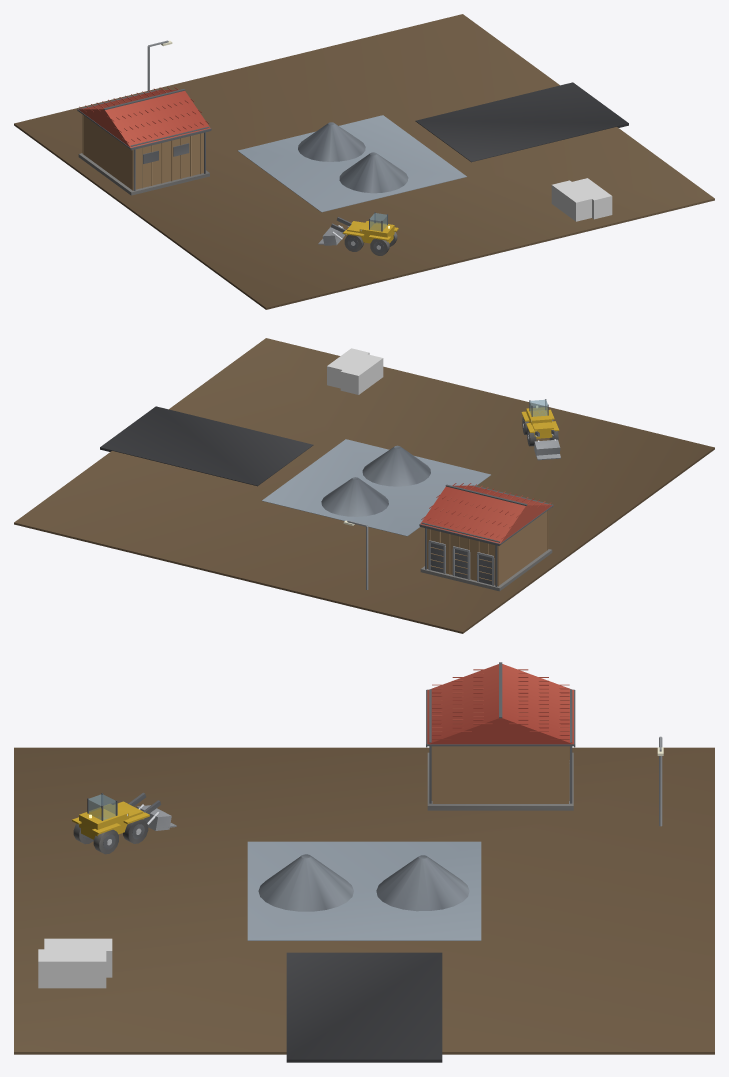
Rendered from Depot_P1.fbx.
3 renders of one model, top to bottom at view 1: azimuth 30°, elevation 25°; view 2: azimuth 150°, elevation 25°; view 3: azimuth 270°, elevation 25°, orthographic. The views are drawn at different scales.
Visible parts, largest first — view 1: Depot.Yard, Depot.Shed1, Depot.Containers, Depot.Loader, Depot.Pile0, Depot.Pile1; view 2: Depot.Yard, Depot.Shed1, Depot.Containers, Depot.Pile0, Depot.Pile1, Depot.Loader; view 3: Depot.Yard, Depot.Shed1, Depot.Loader, Depot.Containers, Depot.Pile0, Depot.Pile1.
Part boxes in pixels (x1,y1,x2,y2): Depot.Yard: (14,14,714,309); Depot.Shed1: (77,87,211,195); Depot.Containers: (551,178,612,221); Depot.Loader: (318,212,398,255); Depot.Pile0: (339,152,408,193); Depot.Pile1: (298,122,365,161); Depot.Yard: (14,338,714,633); Depot.Shed1: (419,483,553,591); Depot.Containers: (327,348,383,394); Depot.Pile0: (362,445,430,486); Depot.Pile1: (321,477,388,516); Depot.Loader: (521,399,560,460); Depot.Yard: (14,747,714,1062); Depot.Shed1: (426,662,575,810); Depot.Loader: (72,792,176,854); Depot.Containers: (38,938,112,988); Depot.Pile0: (258,854,353,911); Depot.Pile1: (376,855,469,911).
Bounding box in the file's own units: 7600 × 1099 × 7200.
